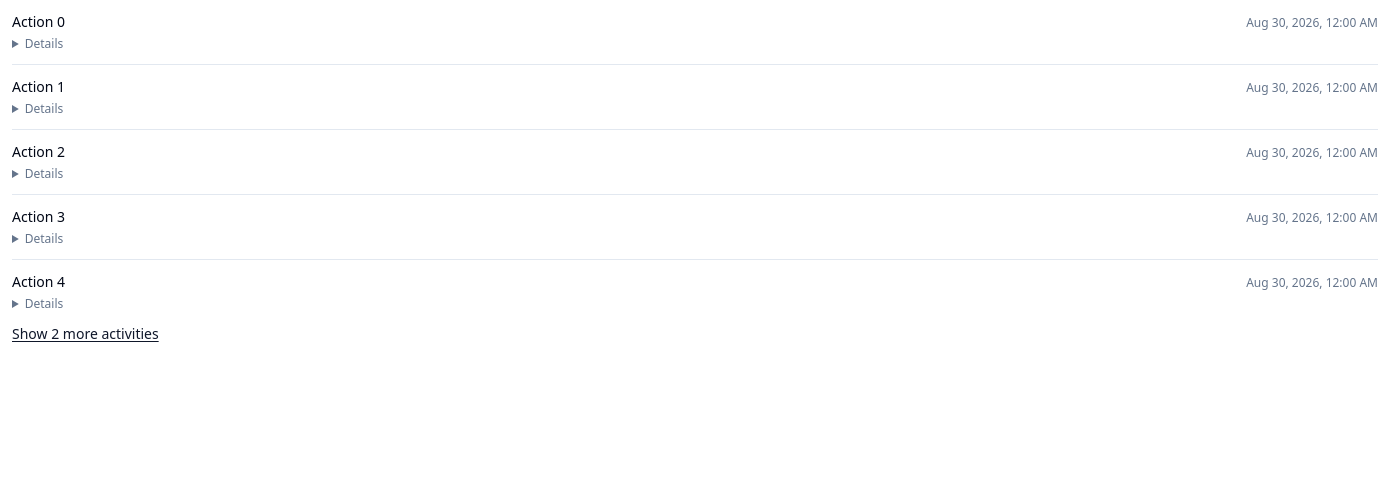
Test: RecentActivityList › keeps older fetched activity available without crowding the initial dashboard
Expected: the text "Action 6" is not shown
Click the button "Show 2 more activities": [85, 334] box [12,324,159,344]
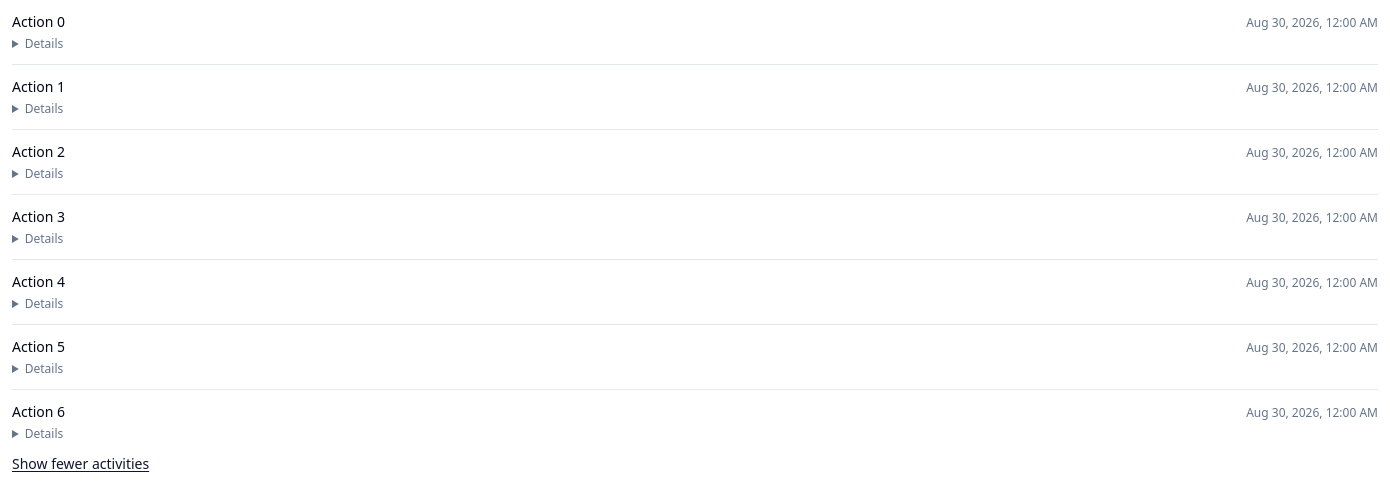
Now the text "Action 6" is shown, box [12,402,65,422]
